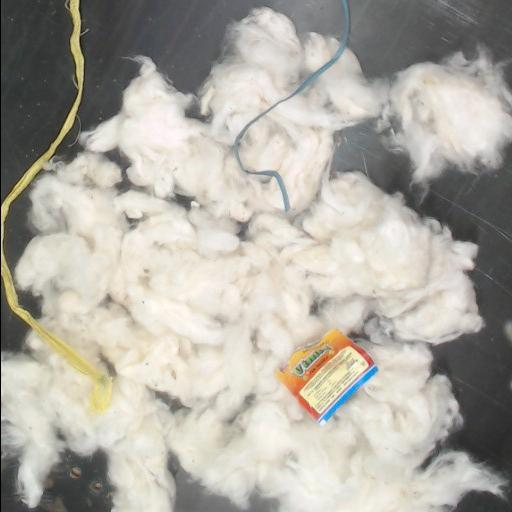conveyor belt: (334, 123, 512, 511), (56, 0, 341, 159), (1, 0, 76, 201), (350, 0, 512, 75), (1, 452, 111, 511), (176, 474, 273, 511), (4, 188, 31, 267), (1, 284, 27, 349), (19, 293, 38, 314)
cotton: (1, 7, 512, 511)
packet: (276, 330, 376, 423)
thread: (1, 0, 112, 411), (233, 0, 350, 211)
